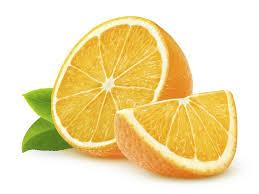orange: (44, 3, 190, 158), (101, 85, 259, 167)
